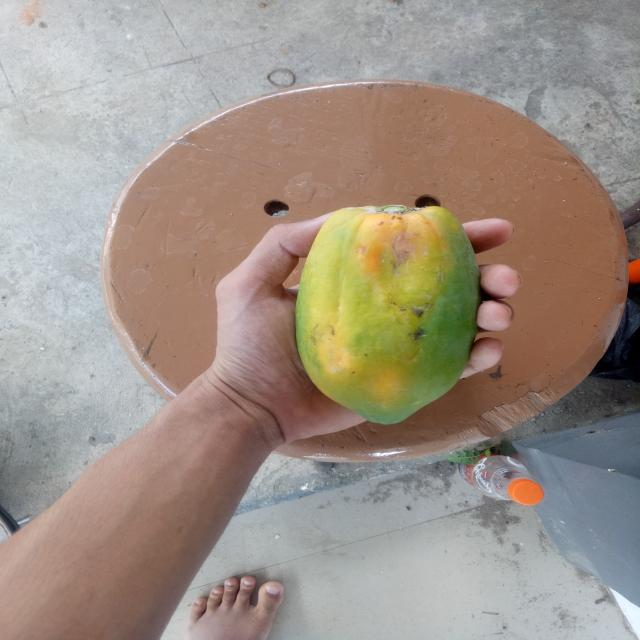Pepaya rippen: (306, 193, 479, 426)
